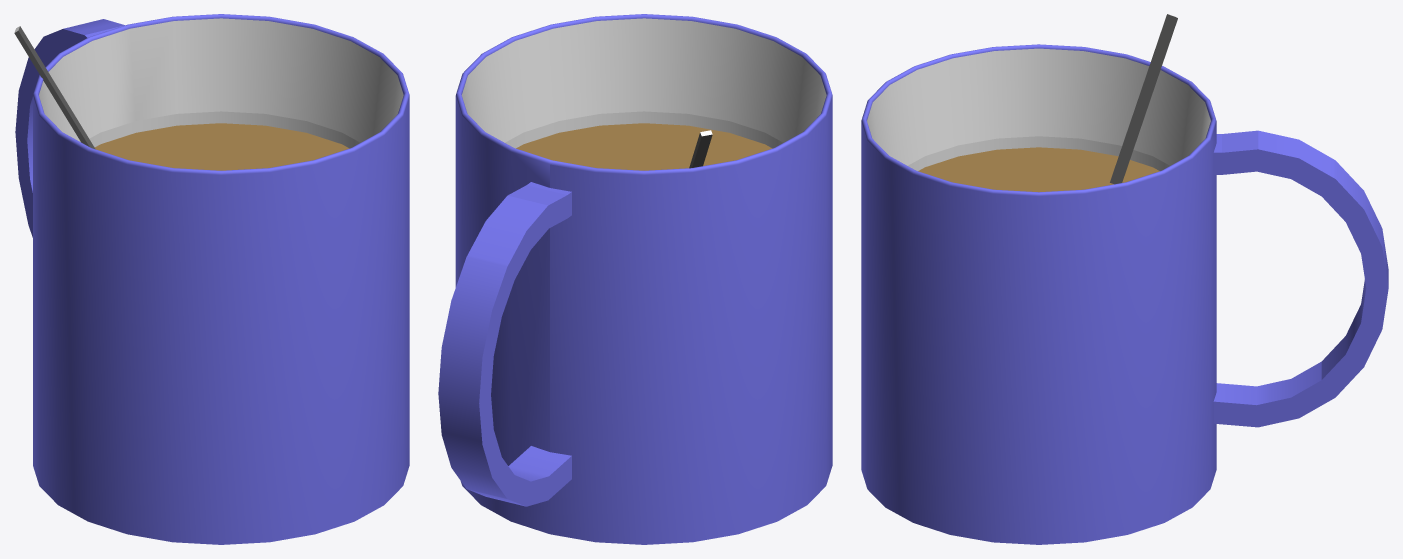
3 renders of one model, left to right at view 1: azimuth 30°, elevation 25°; view 2: azimuth 150°, elevation 25°; view 3: azimuth 270°, elevation 25°, orthographic. The views are drawn at different scales.
Parts seen in each view (by area): view 1: mesh1_mesh1-geometry_2, mesh1_mesh1-geometry, mesh1_mesh1-geometry_3, mesh1_mesh1-geometry_4; view 2: mesh1_mesh1-geometry_2, mesh1_mesh1-geometry, mesh1_mesh1-geometry_3; view 3: mesh1_mesh1-geometry_2, mesh1_mesh1-geometry, mesh1_mesh1-geometry_3, mesh1_mesh1-geometry_4.
Boxes of the visible parts, box(x1,y1,x2,y2) form: mesh1_mesh1-geometry_2: box(15, 14, 409, 544); mesh1_mesh1-geometry: box(39, 18, 403, 148); mesh1_mesh1-geometry_3: box(94, 123, 349, 170); mesh1_mesh1-geometry_4: box(14, 26, 95, 149); mesh1_mesh1-geometry_2: box(438, 14, 832, 544); mesh1_mesh1-geometry: box(461, 18, 826, 148); mesh1_mesh1-geometry_3: box(516, 123, 772, 170); mesh1_mesh1-geometry_2: box(861, 44, 1388, 544); mesh1_mesh1-geometry: box(867, 48, 1210, 170); mesh1_mesh1-geometry_3: box(918, 147, 1159, 192); mesh1_mesh1-geometry_4: box(1110, 14, 1177, 184).
Bounding box in the file's own units: 0.4613 × 0.5643 × 0.6847.
